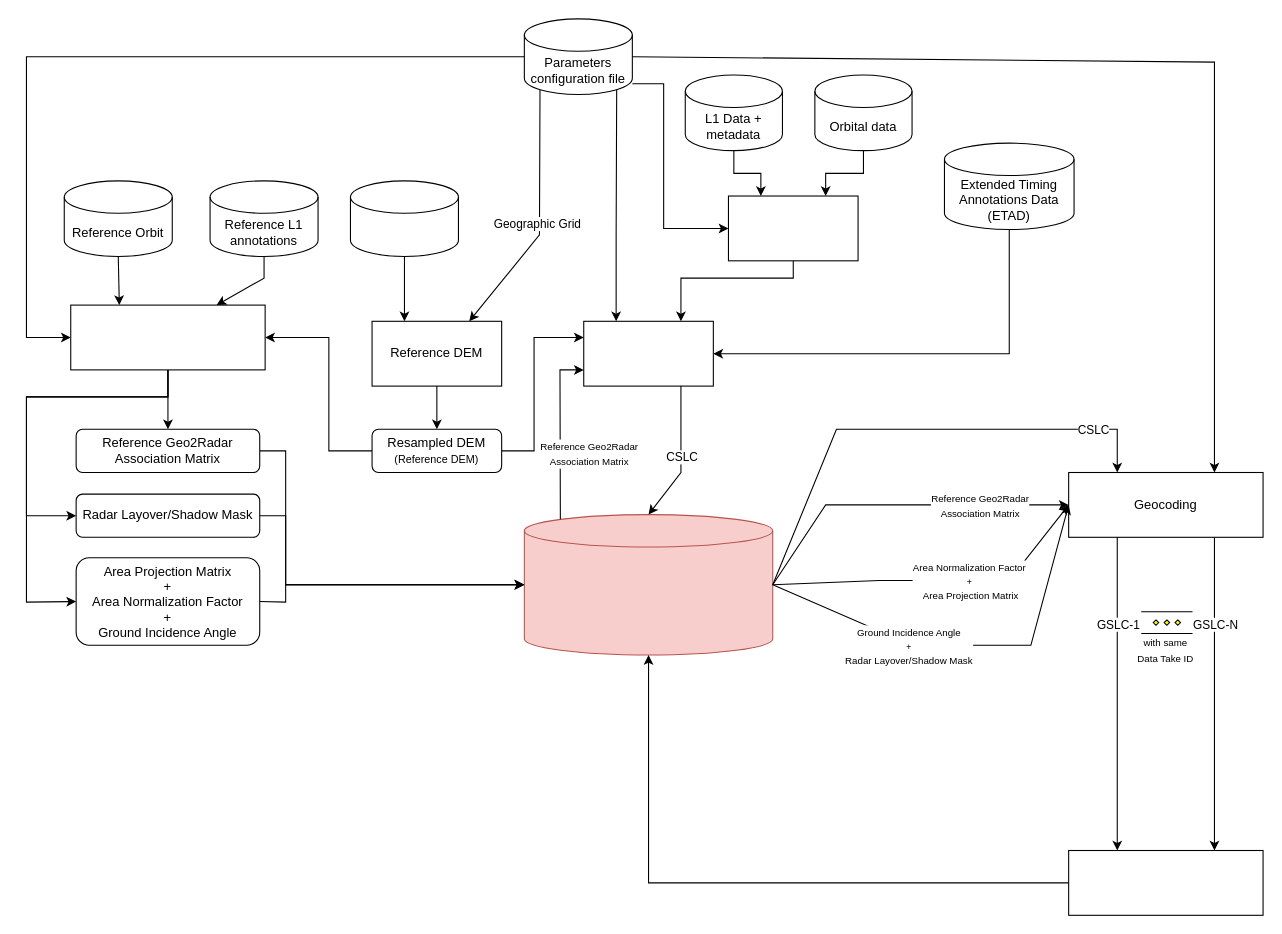
Some shapes in this 1282 by 934 pixel diagram are drawn without their labels. The shapes that lost their labels are listed below. From the top down, each one's centre as x and y in pixels, then its label:
At [403,218]: "Digital Elevation Model (DEM)".
At [792,228]: "Calibration".
At [167,337]: "Reference Geometry".
At [648,353]: "Co-registration".
At [648,584]: "Store - Geometry and Projection info (Static Archive) - NRB".
At [1165,882]: "Mosaicking".
